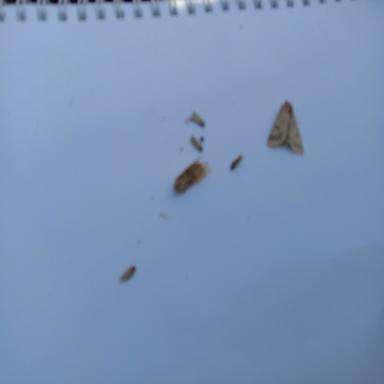abw: (266, 97, 306, 156)
pbw: (173, 157, 218, 198), (118, 264, 138, 284), (190, 109, 204, 128), (191, 133, 205, 151), (230, 152, 244, 169)
